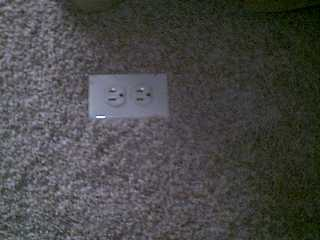outlet: (105, 88, 126, 104), (134, 87, 153, 104)
